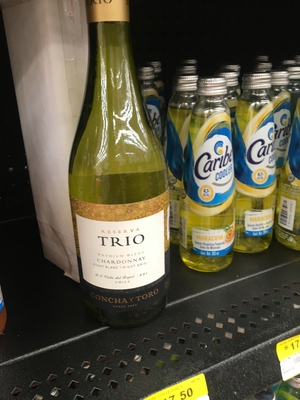trio chardonnay: (70, 16, 202, 320)
